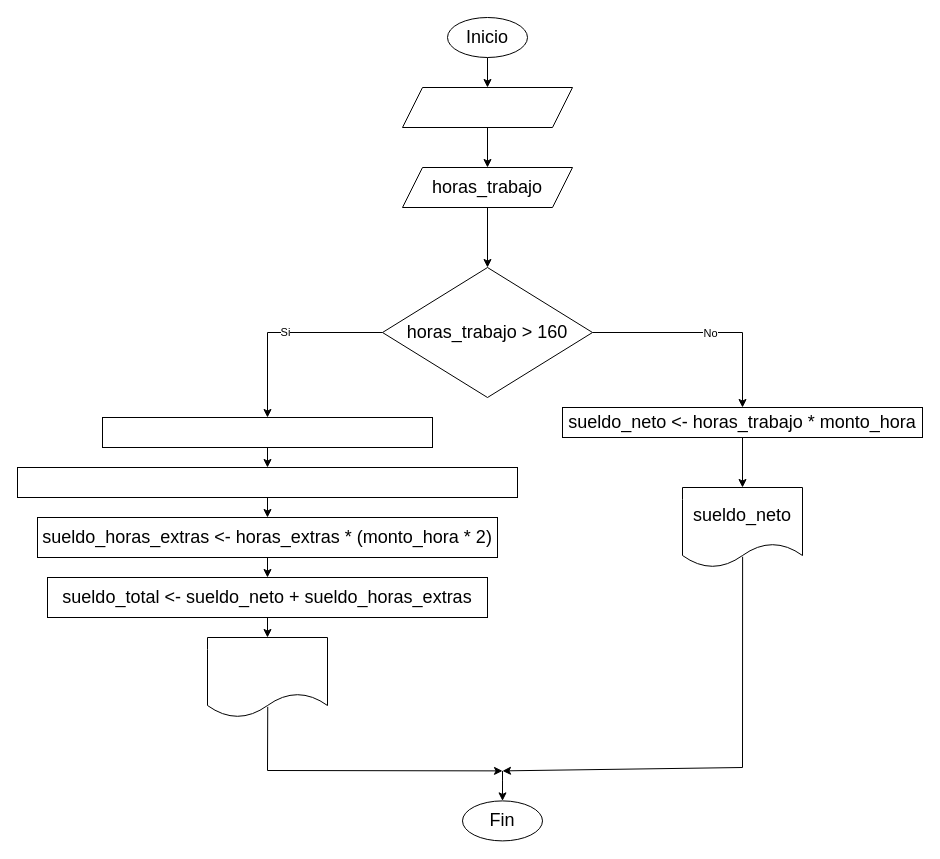
The diagram is 940 pixels wide and 859 high, and some of its shapes have lost their labels. The centre of each missing label's shape, as x and y in pixels:
"horas_extras <- horas_trabajo - 160" goes at pixel 267 432.
"monto_hora" goes at pixel 487 107.
"sueldo_neto <- (horas_trabajo - horas_extras) * monto_hora" goes at pixel 267 482.
"sueldo_total" goes at pixel 267 677.
